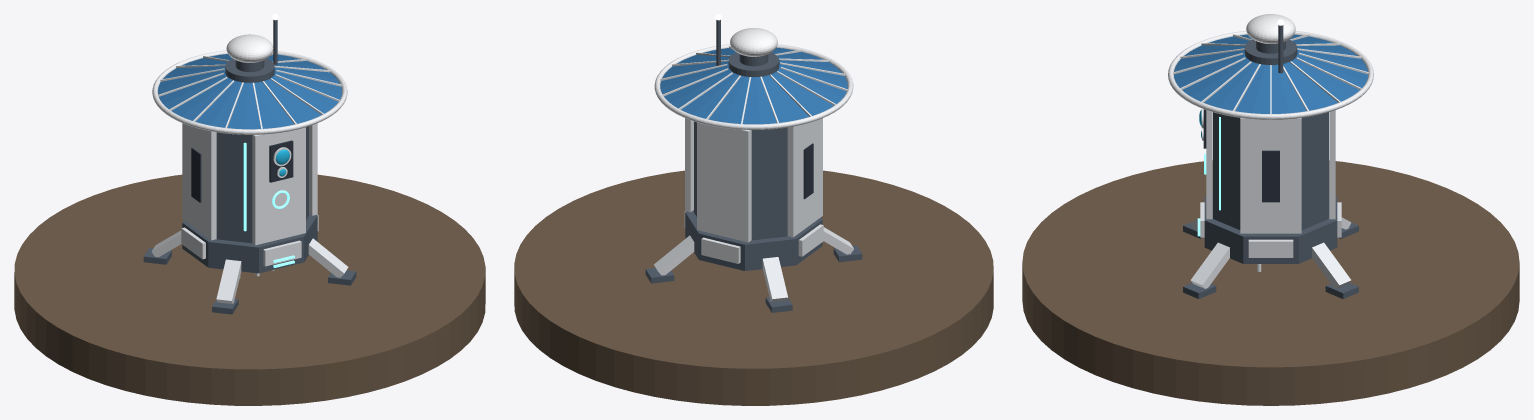
The model's file is TERRA_Field_Explorer.glb.
3 views of the same model, side by side, from view 1: azimuth 30°, elevation 25°; view 2: azimuth 150°, elevation 25°; view 3: azimuth 270°, elevation 25° (orthographic). The views are drawn at different scales.
Parts seen in each view (by area): view 1: SM_TERRA_FieldSoil_Mound, SM_TERRA_SolarCanopy_Cone, SM_TERRA_ArmorPlate_North, SM_TERRA_Hull_OctCore, SM_TERRA_ArmorPlate_West, SM_TERRA_Base_OctCollar, SM_TERRA_SolarRim_Torus, SM_TERRA_GNSS_Dome, SM_TERRA_ArmorPlate_East, SM_TERRA_OutriggerLeg_SW, SM_TERRA_GNSS_MastBase, SM_TERRA_OutriggerLeg_SE (+4 smaller); view 2: SM_TERRA_FieldSoil_Mound, SM_TERRA_SolarCanopy_Cone, SM_TERRA_ArmorPlate_South, SM_TERRA_Hull_OctCore, SM_TERRA_ArmorPlate_West, SM_TERRA_Base_OctCollar, SM_TERRA_SolarRim_Torus, SM_TERRA_GNSS_Dome, SM_TERRA_OutriggerLeg_NW, SM_TERRA_ArmorPlate_East, SM_TERRA_GNSS_MastBase, SM_TERRA_Base_Fender_02 (+4 smaller); view 3: SM_TERRA_FieldSoil_Mound, SM_TERRA_SolarCanopy_Cone, SM_TERRA_ArmorPlate_East, SM_TERRA_Hull_OctCore, SM_TERRA_Base_OctCollar, SM_TERRA_SolarRim_Torus, SM_TERRA_GNSS_Dome, SM_TERRA_SensorChamber_East, SM_TERRA_OutriggerLeg_NE, SM_TERRA_OutriggerLeg_SE, SM_TERRA_Base_Fender_01, SM_TERRA_GNSS_MastBase (+2 smaller).
Part boxes in pixels (box(x1,y1,x2,y2)): SM_TERRA_FieldSoil_Mound: box(14, 174, 485, 405); SM_TERRA_SolarCanopy_Cone: box(158, 54, 341, 129); SM_TERRA_ArmorPlate_North: box(252, 127, 305, 245); SM_TERRA_Hull_OctCore: box(216, 126, 308, 243); SM_TERRA_ArmorPlate_West: box(182, 123, 216, 240); SM_TERRA_Base_OctCollar: box(182, 213, 317, 273); SM_TERRA_SolarRim_Torus: box(152, 50, 347, 134); SM_TERRA_GNSS_Dome: box(226, 34, 273, 62); SM_TERRA_ArmorPlate_East: box(309, 123, 317, 215); SM_TERRA_OutriggerLeg_SW: box(216, 259, 241, 303); SM_TERRA_GNSS_MastBase: box(225, 58, 274, 82); SM_TERRA_OutriggerLeg_SE: box(308, 238, 348, 277); SM_TERRA_FieldSoil_Mound: box(514, 170, 993, 405); SM_TERRA_SolarCanopy_Cone: box(660, 47, 847, 124); SM_TERRA_ArmorPlate_South: box(697, 122, 751, 242); SM_TERRA_Hull_OctCore: box(694, 121, 787, 240); SM_TERRA_ArmorPlate_West: box(787, 118, 822, 237); SM_TERRA_Base_OctCollar: box(685, 210, 822, 270); SM_TERRA_SolarRim_Torus: box(654, 44, 853, 129); SM_TERRA_GNSS_Dome: box(730, 28, 777, 56); SM_TERRA_OutriggerLeg_NW: box(762, 257, 787, 302); SM_TERRA_ArmorPlate_East: box(685, 118, 693, 212); SM_TERRA_GNSS_MastBase: box(728, 52, 779, 76); SM_TERRA_Base_Fender_02: box(701, 237, 740, 263); SM_TERRA_FieldSoil_Mound: box(1022, 160, 1519, 405); SM_TERRA_SolarCanopy_Cone: box(1174, 34, 1367, 113); SM_TERRA_ArmorPlate_East: box(1240, 118, 1301, 233); SM_TERRA_Hull_OctCore: box(1213, 112, 1328, 229); SM_TERRA_Base_OctCollar: box(1204, 194, 1337, 263); SM_TERRA_SolarRim_Torus: box(1168, 31, 1373, 119); SM_TERRA_GNSS_Dome: box(1246, 14, 1295, 43); SM_TERRA_SensorChamber_East: box(1262, 150, 1279, 202); SM_TERRA_OutriggerLeg_NE: box(1312, 242, 1351, 288); SM_TERRA_OutriggerLeg_SE: box(1190, 242, 1229, 288); SM_TERRA_Base_Fender_01: box(1248, 239, 1293, 257); SM_TERRA_GNSS_MastBase: box(1244, 39, 1297, 64).
Bounding box in the file's own units: 7.6 × 5.25 × 7.6.
